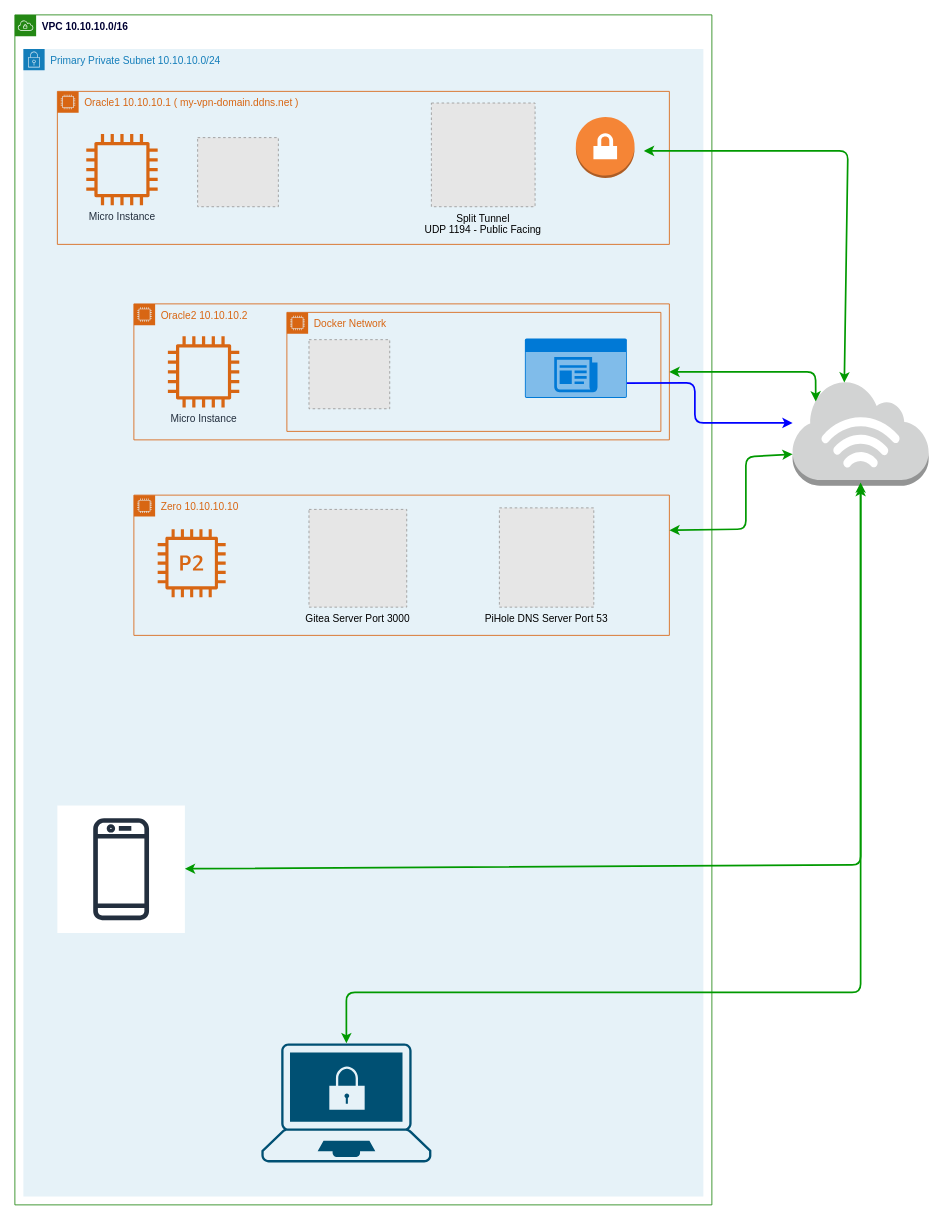
Some shapes in this 944 by 1220 pixel diagram are drawn without their labels. Grey dashed boxes stand in for pictures. The centre of each missing label's shape, as x and y in pixels:
Example Application: the point at 575,368
Internet: the point at 860,433
Laptop 10.10.10.20: the point at 346,1102
Mobile Device 10.10.10.30: the point at 121,869
Raspberry Pi Zero: the point at 191,563
VPN Port: the point at 605,147
